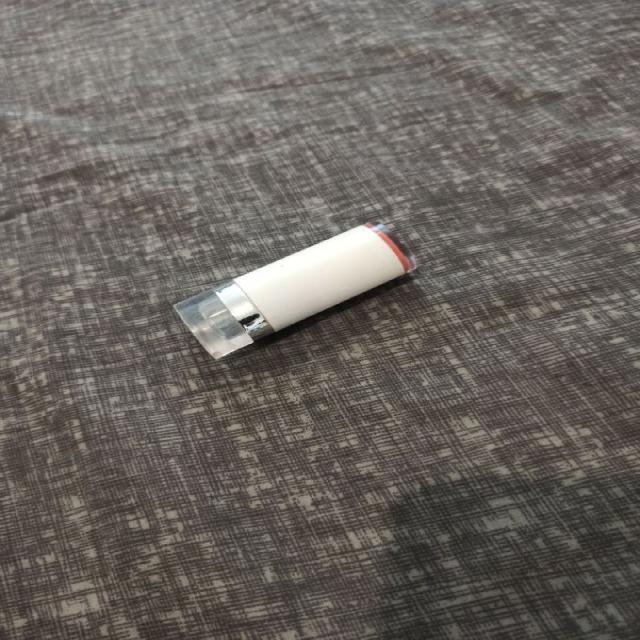lipstick: (170, 216, 420, 365)
